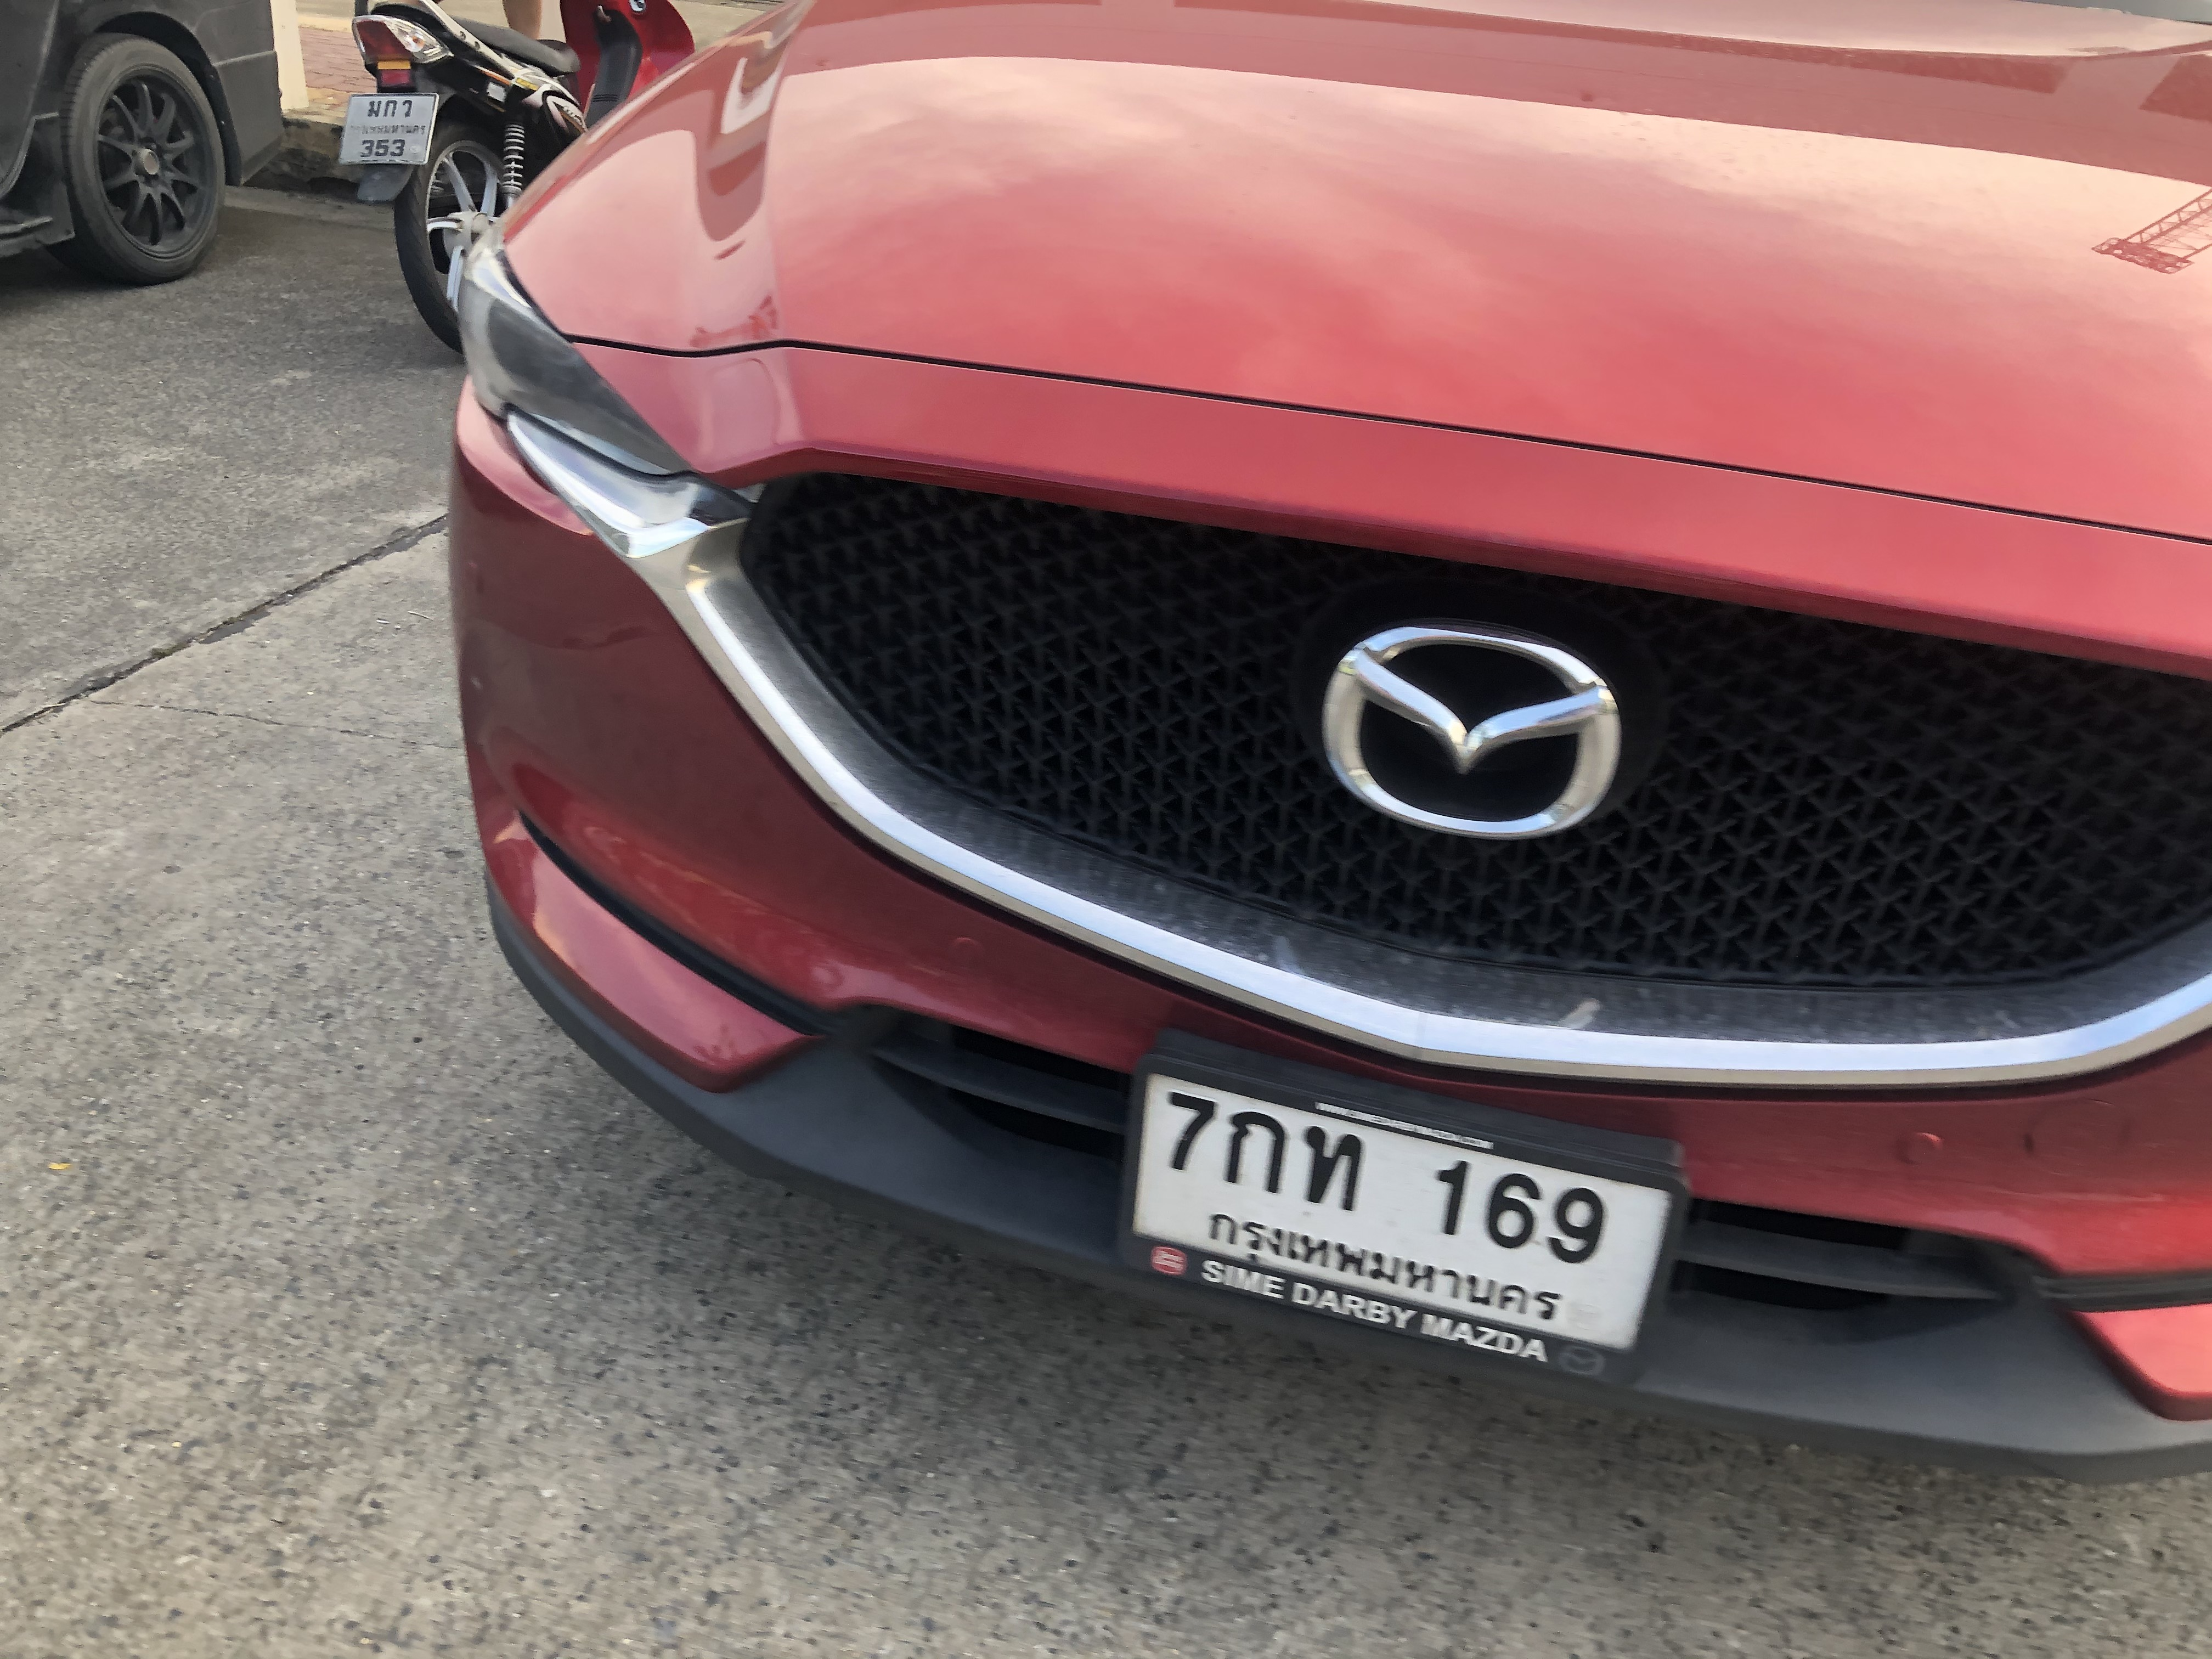in: (1139, 1068, 1670, 1358)
out: (1118, 1035, 1689, 1396)
